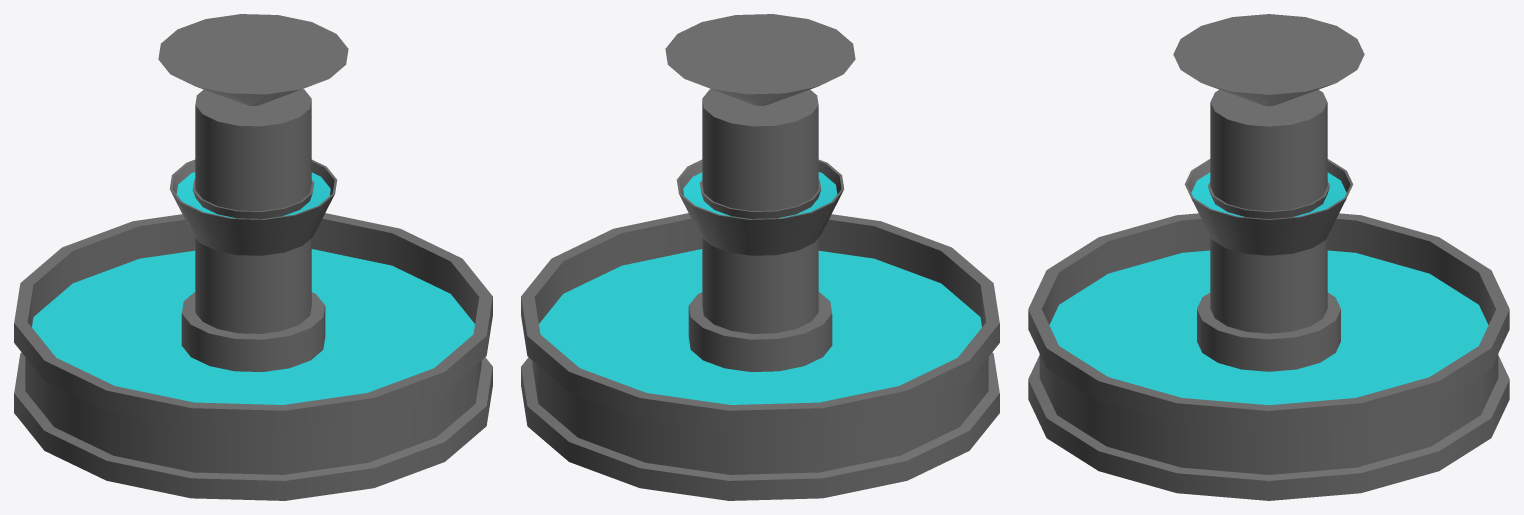
File: fountin .fbx
3 renders of one model, left to right at view 1: azimuth 30°, elevation 25°; view 2: azimuth 150°, elevation 25°; view 3: azimuth 270°, elevation 25°, orthographic.
Visible parts, largest first — view 1: Cylinder; view 2: Cylinder; view 3: Cylinder.
Part boxes in pixels (<box>): Cylinder: <box>14,14,492,500</box>; Cylinder: <box>521,14,999,500</box>; Cylinder: <box>1028,14,1509,500</box>.
Size of the model in its own units: 200 by 158 by 200.
